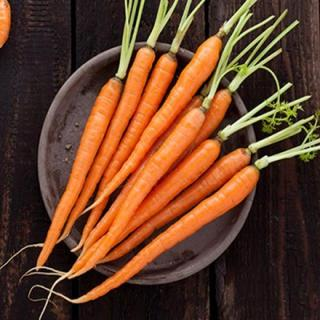carrot: (60, 159, 262, 311), (75, 24, 225, 214), (68, 94, 212, 278), (71, 47, 179, 257)
